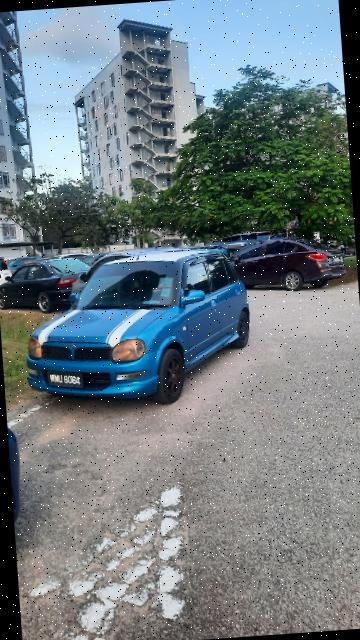License_Plate: (45, 366, 88, 394)
car: (17, 245, 259, 413), (217, 232, 353, 296)
